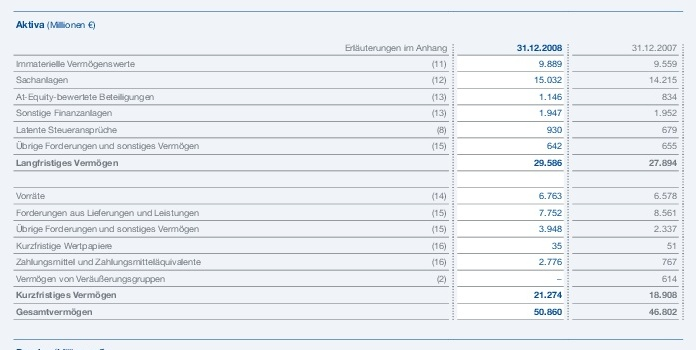table: (0, 0, 696, 350)
